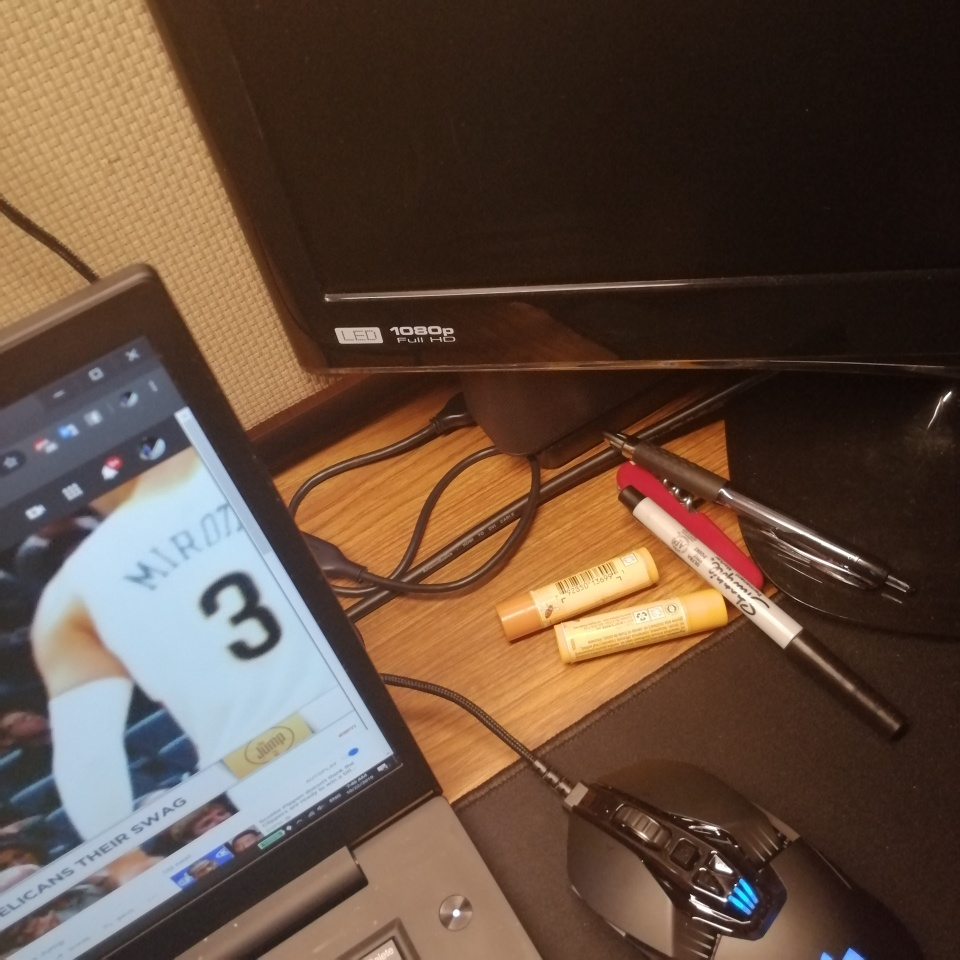chapstick: (495, 547, 660, 644), (554, 588, 729, 664)
